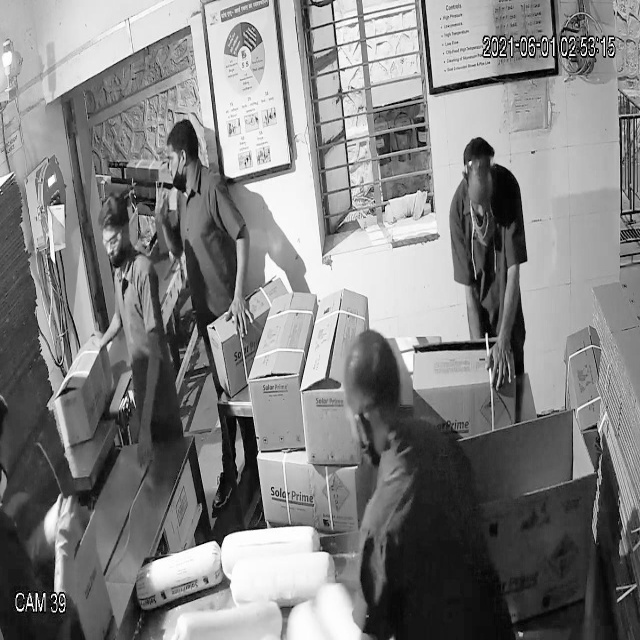Gafas: (98, 220, 136, 259)
